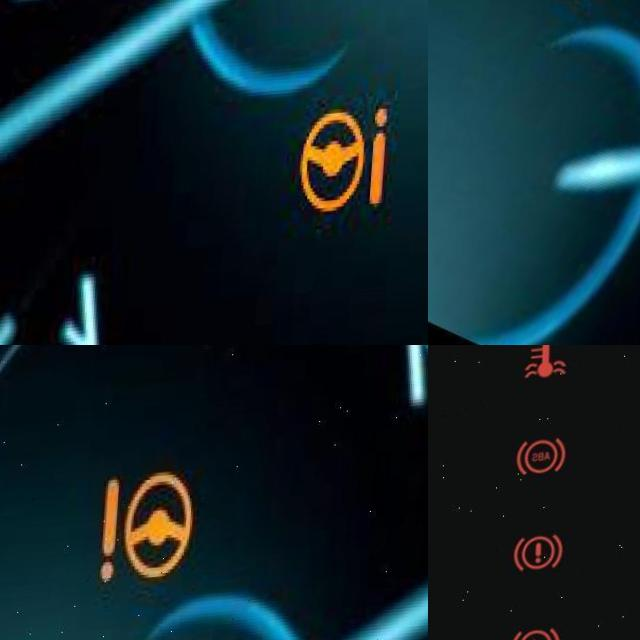Electronic Power Steering: (306, 116, 396, 221)
Electronic Power Steering Warning: (99, 470, 203, 590)
